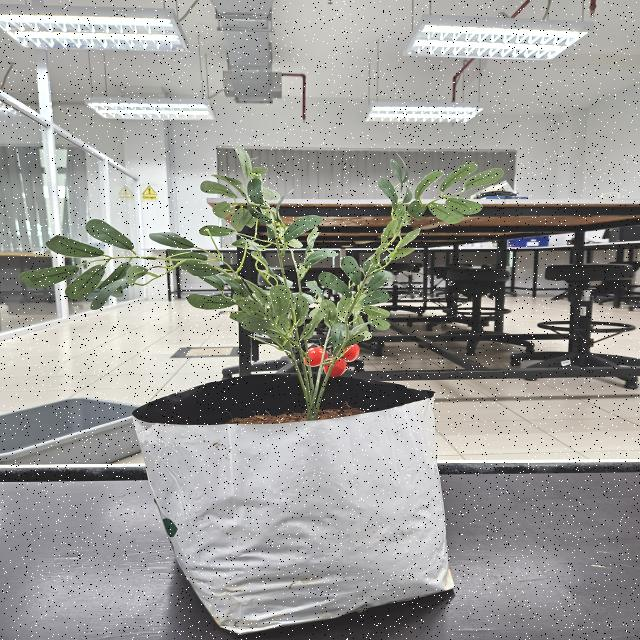Soilbag: (132, 377, 454, 638)
Tomato: (308, 344, 361, 381)
plant: (19, 150, 503, 421)
